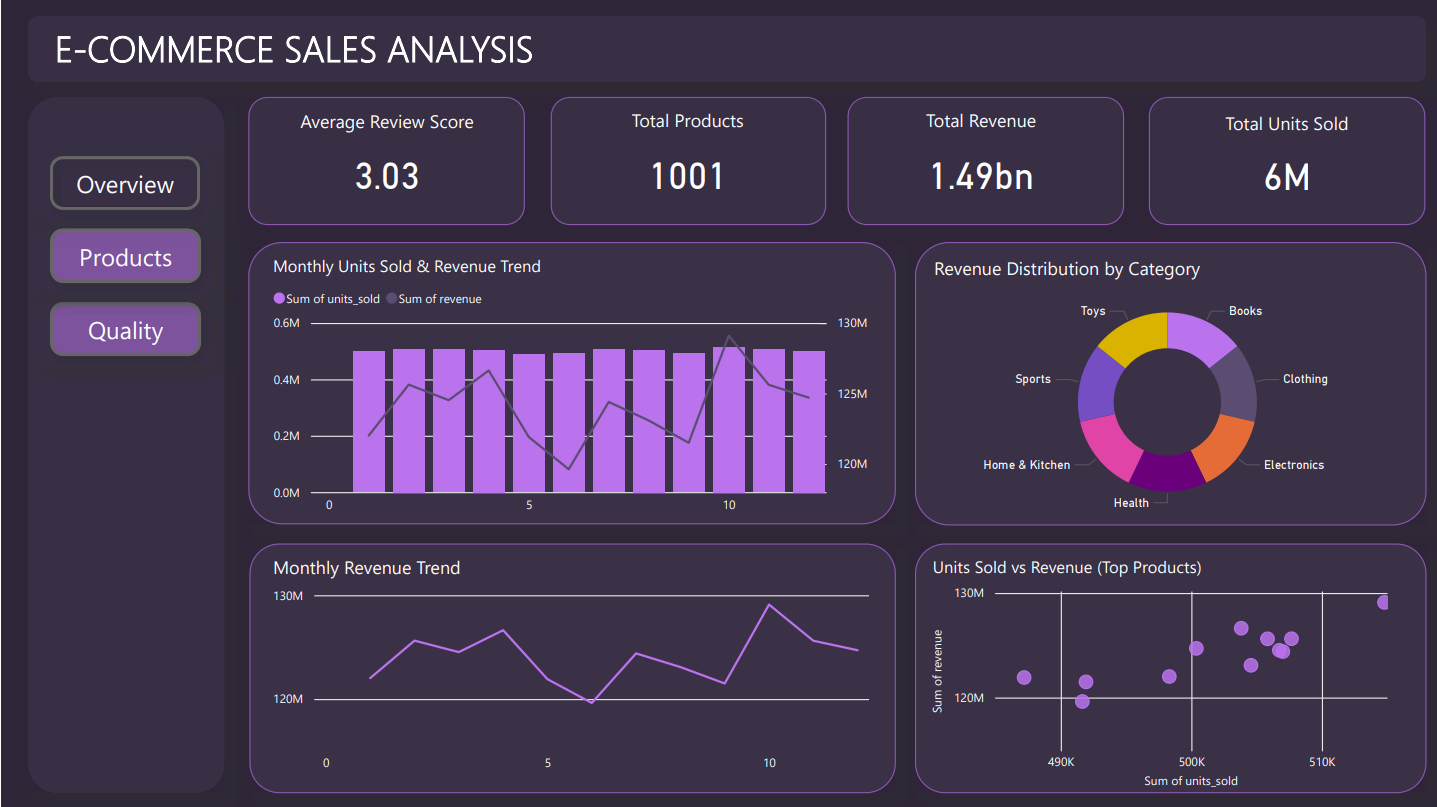

Layout of this report page (visuals, bound fields, positions):
{"tool":"powerbi","page":{"name":"Overview","canvas":[1280,720],"ordinal":0},"visuals":[{"type":"shape","box":[220,87.1,245.7,114.3],"z":0},{"type":"card","title":"Average Review Score","fields":{"Values":["Sum(01_kpi_overall_metrics.avg_review_score)"]},"box":[248.5,97.7,189.4,91.7],"z":1000},{"type":"shape","box":[488.6,87.1,245.7,114.3],"z":2000},{"type":"shape","box":[752.9,87.1,245.7,114.3],"z":3000},{"type":"shape","box":[1021.4,87.1,245.7,114.3],"z":4000},{"type":"card","title":"Total Units Sold","fields":{"Values":["Sum(01_kpi_overall_metrics.total_units_sold)"]},"box":[1050,98.5,188.2,92.6],"z":5000},{"type":"card","title":"Total Revenue","fields":{"Values":["Sum(01_kpi_overall_metrics.total_revenue)"]},"box":[777.1,97.1,190,92.9],"z":6000},{"type":"card","title":"Total Products","fields":{"Values":["Sum(01_kpi_overall_metrics.total_products)"]},"box":[515.7,97.1,190,92.9],"z":7000},{"type":"shape","box":[23.5,14.7,1244.1,58.8],"z":8000},{"type":"shape","box":[220,215.7,575.7,251.4],"z":9000},{"type":"lineStackedColumnComboChart","title":"Monthly Units Sold & Revenue Trend","fields":{"Y2":["Sum(02_monthly_sales_revenue.revenue)"],"Y":["Sum(02_monthly_sales_revenue.units_sold)"],"Category":["02_monthly_sales_revenue.month_number"]},"box":[237.1,227.1,538.6,238.6],"z":10000},{"type":"textbox","box":[42.9,15.7,465.7,58.6],"z":11000},{"type":"shape","box":[23.5,86.8,175,619.1],"z":12000},{"type":"shape","box":[813.2,216.2,454.4,251.5],"z":13000},{"type":"shape","box":[220.6,483.8,575,222.1],"z":14000},{"type":"shape","box":[813.2,483.8,454.4,222.1],"z":15000},{"type":"donutChart","title":"Revenue Distribution by Category","fields":{"Category":["03_category_revenue_share.category"],"Y":["CountNonNull(03_category_revenue_share.revenue)"]},"box":[825,227.9,425,238.2],"z":16000},{"type":"scatterChart","title":"Units Sold vs Revenue (Top Products)","fields":{"Category":["02_monthly_sales_revenue.month_number"],"X":["Sum(02_monthly_sales_revenue.units_sold)"],"Y":["Sum(02_monthly_sales_revenue.revenue)"]},"box":[824.3,494.3,425.7,211.4],"z":17000},{"type":"lineChart","title":"Monthly Revenue Trend","fields":{"Category":["04_monthly_revenue_growth.month_number"],"Y":["Sum(04_monthly_revenue_growth.revenue)"]},"box":[237.1,494.3,540,201.4],"z":18000},{"type":"actionButton","title":"Products","box":[35,131.4,151.4,64.3],"z":19000},{"type":"actionButton","title":"Products","box":[35,260.6,152,65.1],"z":20000},{"type":"actionButton","title":"Products","box":[35,195.4,152,65.1],"z":21000}]}

Visuals, with their boxes in screenshot pixels (x1, y1, x2, y2), scaled from the page's 1280x720 canvas onto the 1437x807 screenshot:
shape: {"left": 247, "top": 98, "right": 523, "bottom": 226}
"Average Review Score" card: {"left": 279, "top": 110, "right": 492, "bottom": 212}
shape: {"left": 549, "top": 98, "right": 824, "bottom": 226}
shape: {"left": 845, "top": 98, "right": 1121, "bottom": 226}
shape: {"left": 1147, "top": 98, "right": 1423, "bottom": 226}
"Total Units Sold" card: {"left": 1179, "top": 110, "right": 1390, "bottom": 214}
"Total Revenue" card: {"left": 872, "top": 109, "right": 1086, "bottom": 213}
"Total Products" card: {"left": 579, "top": 109, "right": 792, "bottom": 213}
shape: {"left": 26, "top": 16, "right": 1423, "bottom": 82}
shape: {"left": 247, "top": 242, "right": 893, "bottom": 524}
"Monthly Units Sold & Revenue Trend" lineStackedColumnComboChart: {"left": 266, "top": 255, "right": 871, "bottom": 522}
textbox: {"left": 48, "top": 18, "right": 571, "bottom": 83}
shape: {"left": 26, "top": 97, "right": 223, "bottom": 791}
shape: {"left": 913, "top": 242, "right": 1423, "bottom": 524}
shape: {"left": 248, "top": 542, "right": 893, "bottom": 791}
shape: {"left": 913, "top": 542, "right": 1423, "bottom": 791}
"Revenue Distribution by Category" donutChart: {"left": 926, "top": 255, "right": 1403, "bottom": 522}
"Units Sold vs Revenue (Top Products)" scatterChart: {"left": 925, "top": 554, "right": 1403, "bottom": 791}
"Monthly Revenue Trend" lineChart: {"left": 266, "top": 554, "right": 872, "bottom": 780}
"Products" actionButton: {"left": 39, "top": 147, "right": 209, "bottom": 219}
"Products" actionButton: {"left": 39, "top": 292, "right": 210, "bottom": 365}
"Products" actionButton: {"left": 39, "top": 219, "right": 210, "bottom": 292}
